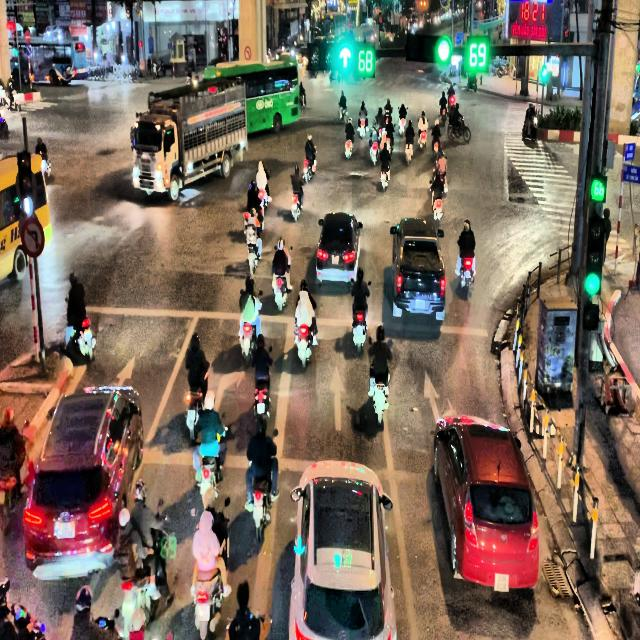lisence_plate: (53, 518, 76, 540), (493, 571, 510, 593), (330, 252, 340, 268), (418, 299, 426, 310)
